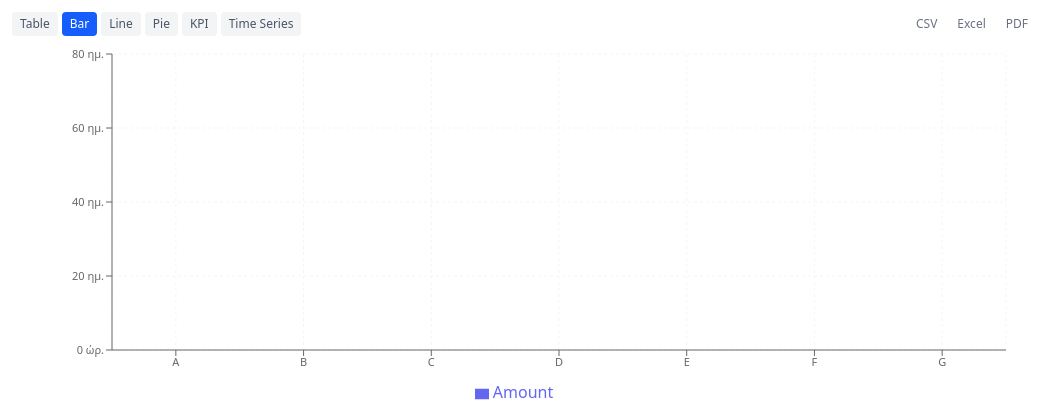
Scenario: ResultView › can switch chart type
// Default should be bar (many categories + numeric)
Click the button "Table" at coordinates (35, 24), box [12, 12, 58, 36]
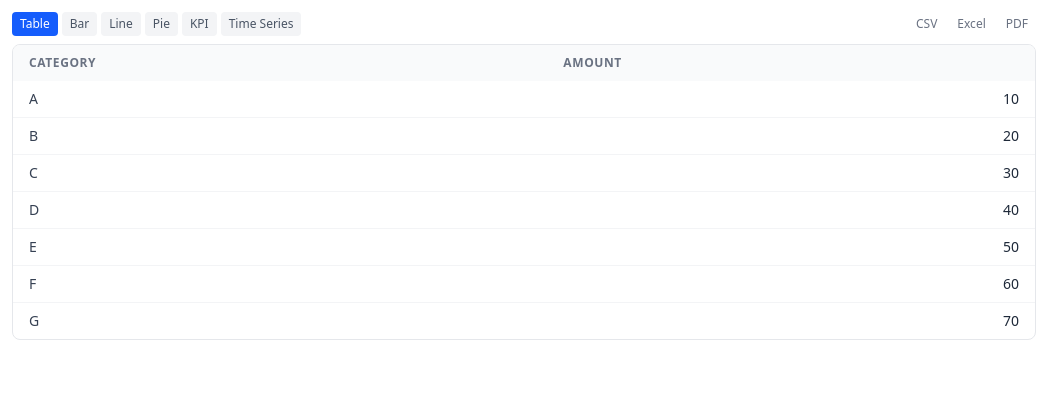
Now the table is shown
